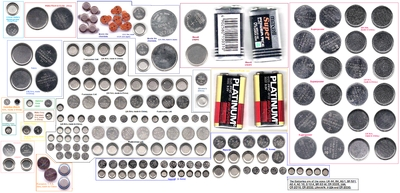Battery: (247, 5, 285, 64), (213, 71, 248, 130), (252, 70, 287, 128), (212, 5, 245, 62)
